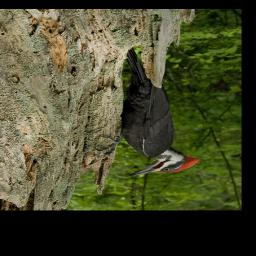Woodpecker: (94, 46, 202, 177)
